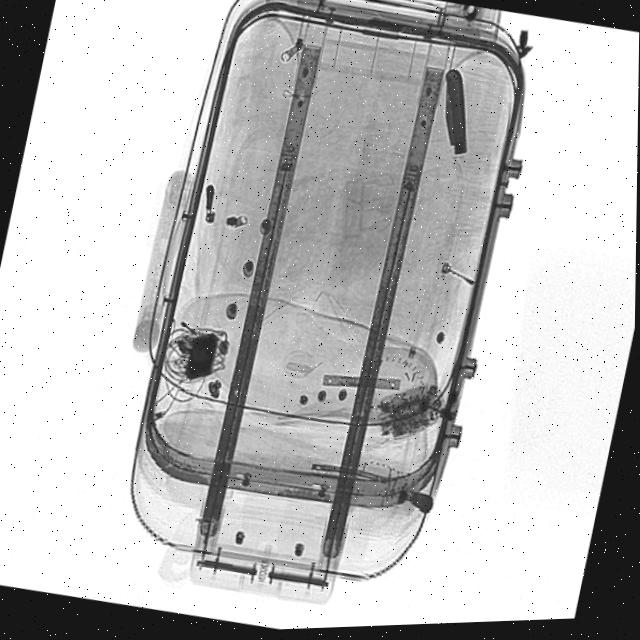knife: (425, 67, 488, 161)
